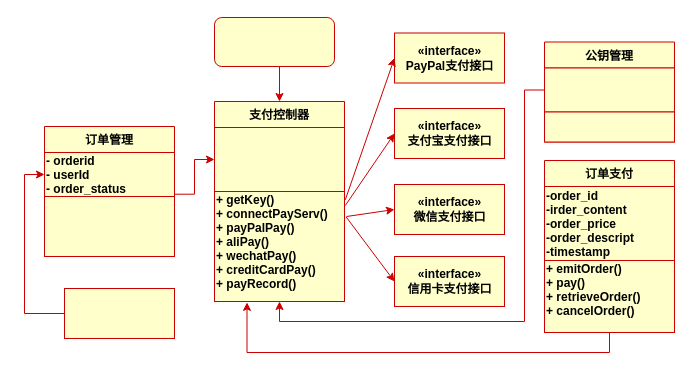
Image size: 692x378. Some labels were removed from this diagram. Here are the shapes that lost their labels. From the top down, the centre of each, then its label:
[274,41]: 订单支付界面
[609,89]: - keyloc - keystr - sys
[609,126]: + get_key()
[279,159]: - paymentMapper - paymentType - userId - goodId
[109,226]: + persist() + update() + delete() + export()
[119,313]: «interface» 持久化接口
